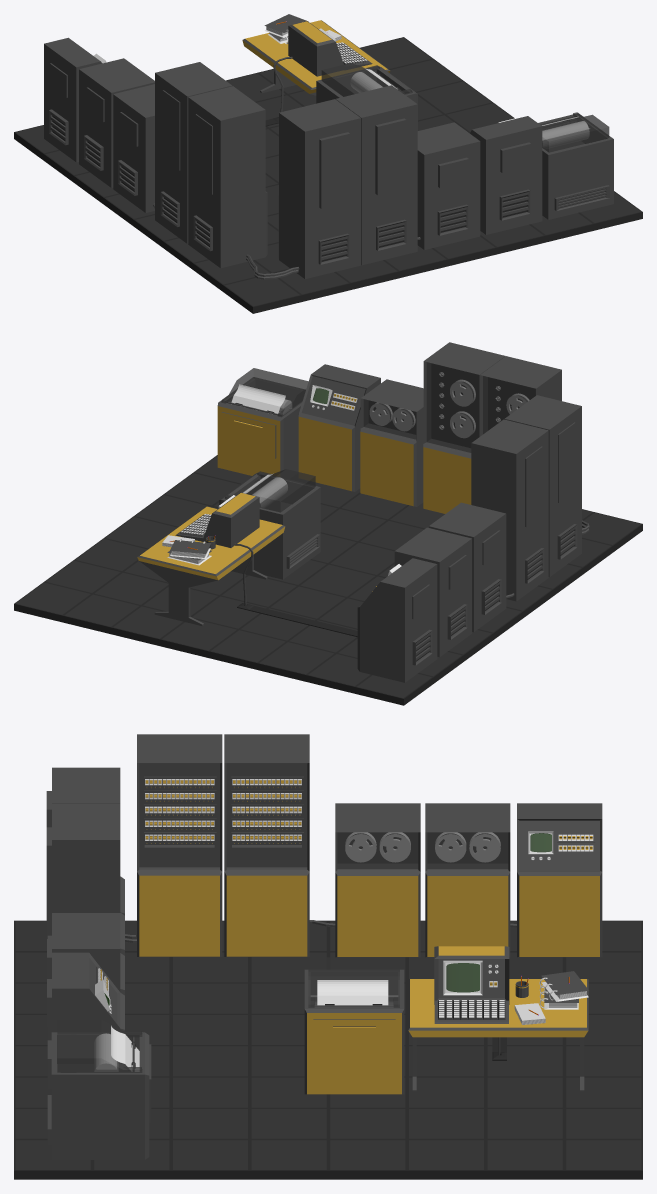
The model's file is Room.glb.
The picture shows the model from 3 angles, top to bottom: view 1: azimuth 30°, elevation 25°; view 2: azimuth 150°, elevation 25°; view 3: azimuth 270°, elevation 25°; orthographic projection. The views are drawn at different scales.
Visible parts, largest first — view 1: Floor_Cube.588, ModuleWithButtons_Cube.047, ModuleWithTapes.002_Cube.046, ModuleWithTapes.001_Cube.044, ModuleWithTapes_Cube, ModuleWithScreen_Cube.002, ModuleWithButtons.001_Cube.294, PrinterModule_Cube.042, ModuleWithTapes.004_Cube.541, ModuleWithTapes.003_Cube.540, ModuleWithScreen.001_Cube.542, Desk_Cube.579 (+27 smaller); view 2: Floor_Cube.588, ModuleWithTapes.001_Cube.044, ModuleWithButtons.001_Cube.294, ModuleWithTapes_Cube, ModuleWithScreen.001_Cube.542, ModuleWithScreen_Cube.002, PrinterModule_Cube.042, Desk_Cube.579, ModuleWithButtons_Cube.047, PrinterModule.001_Cube.608, ModuleWithTapes.004_Cube.541, ModuleWithTapes.003_Cube.540 (+17 smaller); view 3: Floor_Cube.588, ModuleWithButtons.001_Cube.294, ModuleWithButtons_Cube.047, ModuleWithTapes.003_Cube.540, ModuleWithTapes.004_Cube.541, ModuleWithScreen.001_Cube.542, PrinterModule_Cube.042, PrinterModule.001_Cube.608, ModuleWithTapes.001_Cube.044, Desk_Cube.579, ModuleWithScreen_Cube.002, ModuleWithTapes_Cube (+16 smaller).
Part boxes in pixels (x1=…): Floor_Cube.588: x1=14, y1=37, x2=642, y2=313; ModuleWithButtons_Cube.047: x1=188, y1=86, x2=267, y2=268; ModuleWithTapes.002_Cube.046: x1=278, y1=99, x2=360, y2=278; ModuleWithTapes.001_Cube.044: x1=335, y1=85, x2=417, y2=265; ModuleWithTapes_Cube: x1=417, y1=122, x2=480, y2=249; ModuleWithScreen_Cube.002: x1=470, y1=116, x2=542, y2=234; ModuleWithButtons.001_Cube.294: x1=155, y1=62, x2=232, y2=243; PrinterModule_Cube.042: x1=538, y1=114, x2=613, y2=219; ModuleWithTapes.004_Cube.541: x1=79, y1=58, x2=154, y2=187; ModuleWithTapes.003_Cube.540: x1=113, y1=84, x2=154, y2=212; ModuleWithScreen.001_Cube.542: x1=44, y1=37, x2=102, y2=162; Desk_Cube.579: x1=242, y1=20, x2=390, y2=95; Floor_Cube.588: x1=14, y1=455, x2=642, y2=705; ModuleWithTapes.001_Cube.044: x1=423, y1=342, x2=505, y2=513; ModuleWithButtons.001_Cube.294: x1=471, y1=419, x2=548, y2=601; ModuleWithTapes_Cube: x1=360, y1=379, x2=423, y2=506; ModuleWithScreen.001_Cube.542: x1=357, y1=558, x2=437, y2=682; ModuleWithScreen_Cube.002: x1=298, y1=364, x2=380, y2=491; PrinterModule_Cube.042: x1=217, y1=377, x2=305, y2=478; Desk_Cube.579: x1=137, y1=506, x2=285, y2=626; ModuleWithButtons_Cube.047: x1=504, y1=395, x2=581, y2=576; PrinterModule.001_Cube.608: x1=219, y1=472, x2=320, y2=579; ModuleWithTapes.004_Cube.541: x1=394, y1=527, x2=471, y2=657; ModuleWithTapes.003_Cube.540: x1=429, y1=502, x2=506, y2=632; Floor_Cube.588: x1=14, y1=920, x2=642, y2=1179; ModuleWithButtons.001_Cube.294: x1=224, y1=734, x2=309, y2=956; ModuleWithButtons_Cube.047: x1=137, y1=734, x2=222, y2=956; ModuleWithTapes.003_Cube.540: x1=335, y1=803, x2=420, y2=957; ModuleWithTapes.004_Cube.541: x1=425, y1=803, x2=510, y2=957; ModuleWithScreen.001_Cube.542: x1=517, y1=803, x2=602, y2=957; PrinterModule_Cube.042: x1=51, y1=1032, x2=151, y2=1159; PrinterModule.001_Cube.608: x1=304, y1=969, x2=404, y2=1094; ModuleWithTapes.001_Cube.044: x1=52, y1=804, x2=124, y2=955; Desk_Cube.579: x1=408, y1=979, x2=588, y2=1092; ModuleWithScreen_Cube.002: x1=52, y1=952, x2=124, y2=1032; ModuleWithTapes_Cube: x1=52, y1=913, x2=124, y2=995.
Size of the model in its own units: 27.03 by 10.3 by 28.71.
